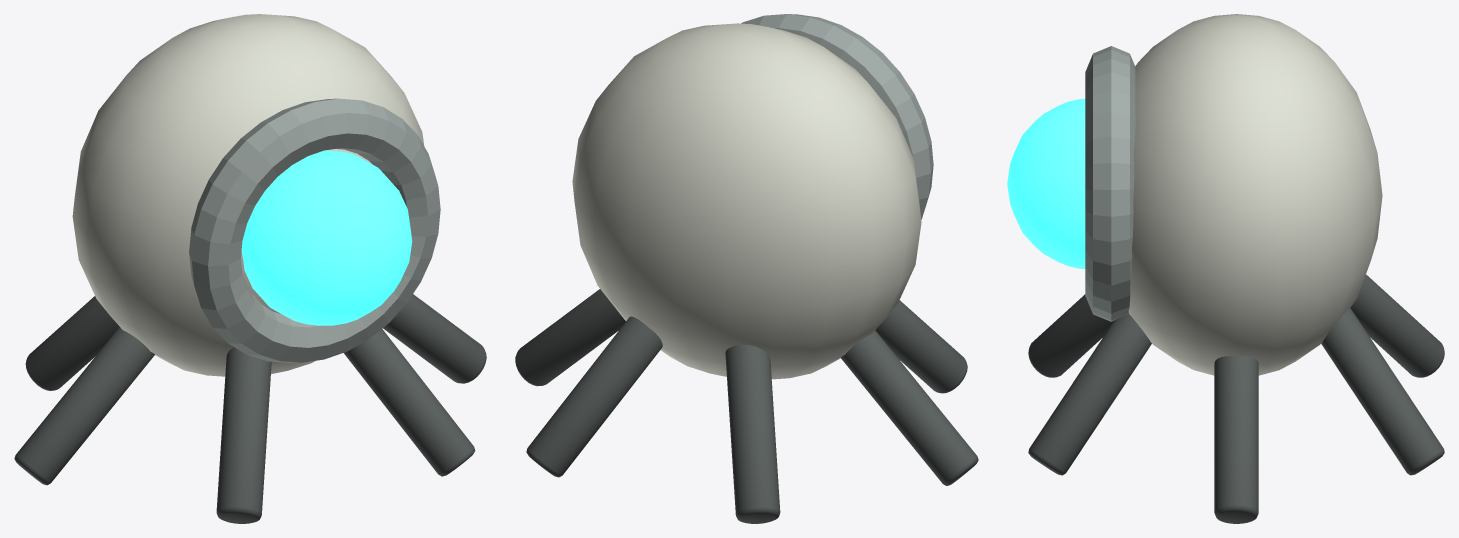
File: card_reactor.glb
The picture shows the model from 3 angles, left to right: view 1: azimuth 30°, elevation 25°; view 2: azimuth 150°, elevation 25°; view 3: azimuth 270°, elevation 25°; orthographic projection. The views are drawn at different scales.
Parts seen in each view (by area): view 1: card_reactor; view 2: card_reactor; view 3: card_reactor.
Part boxes in pixels (x1=…): card_reactor: x1=14, y1=14, x2=486, y2=523; card_reactor: x1=515, y1=14, x2=978, y2=523; card_reactor: x1=1007, y1=14, x2=1444, y2=523.
Size of the model in its own units: 2 by 1.67 by 1.68.
